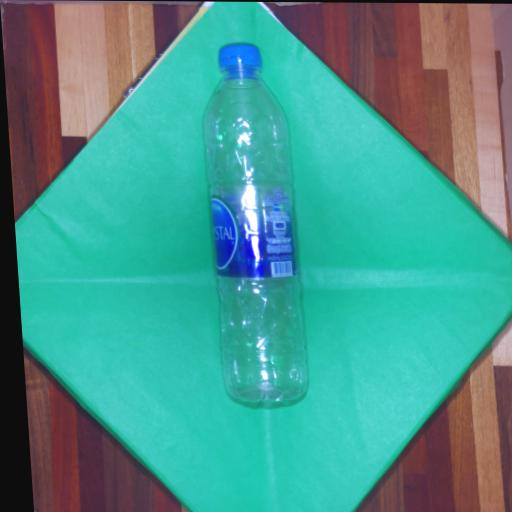bottle: (176, 16, 333, 427)
